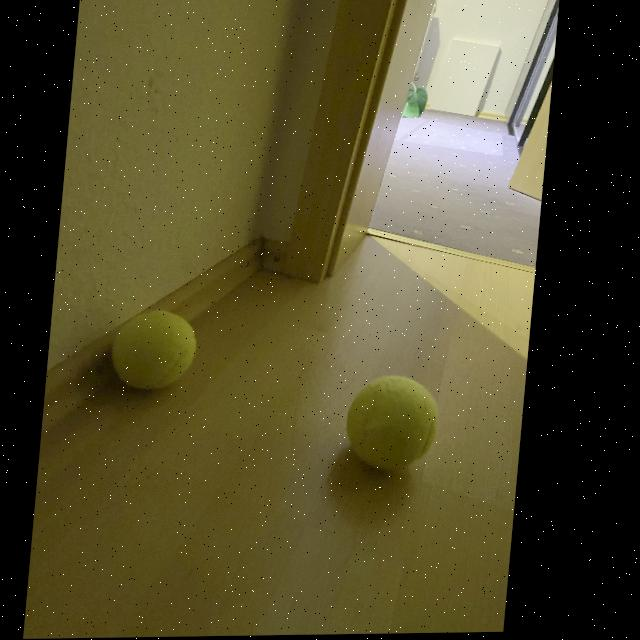Tennisball: (346, 375, 438, 470), (112, 310, 196, 389)
